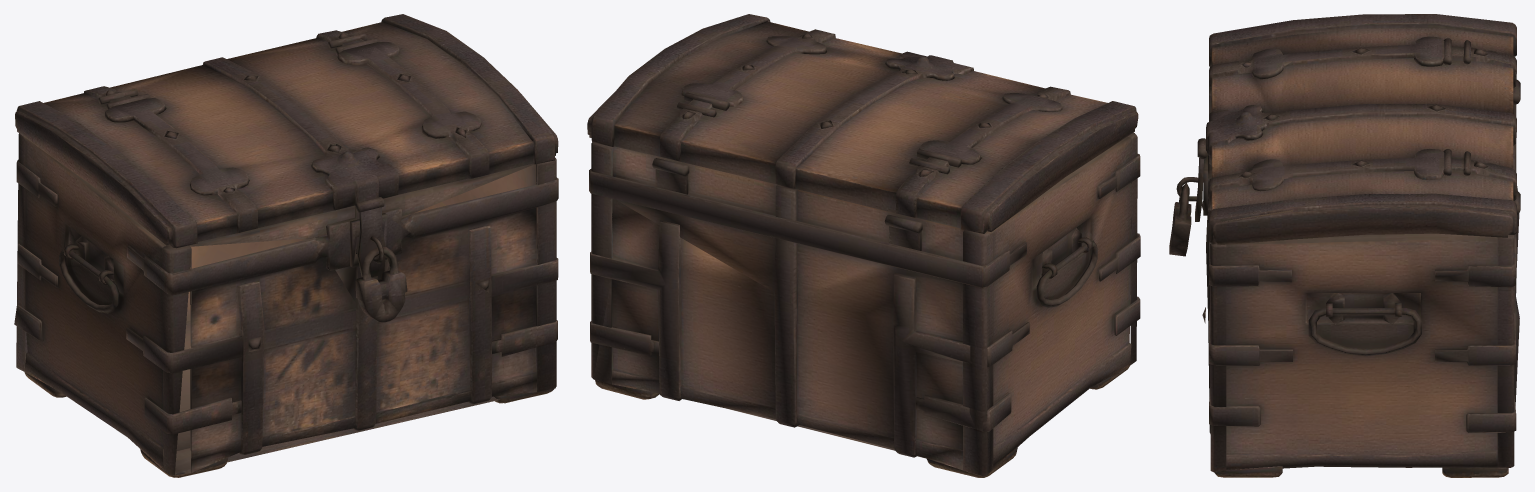
Rendered from selected.fbx.
The picture shows the model from 3 angles, left to right: view 1: azimuth 30°, elevation 25°; view 2: azimuth 150°, elevation 25°; view 3: azimuth 270°, elevation 25°; orthographic projection. The views are drawn at different scales.
Visible parts, largest first — view 1: tripo_node_1eb4c486-6da2-4d8a-a947-78a52e876023; view 2: tripo_node_1eb4c486-6da2-4d8a-a947-78a52e876023; view 3: tripo_node_1eb4c486-6da2-4d8a-a947-78a52e876023.
Part boxes in pixels (x1,y1,x2,y2): tripo_node_1eb4c486-6da2-4d8a-a947-78a52e876023: (14,14,558,477); tripo_node_1eb4c486-6da2-4d8a-a947-78a52e876023: (587,14,1140,477); tripo_node_1eb4c486-6da2-4d8a-a947-78a52e876023: (1169,14,1520,477).
Bounding box in the file's own units: 0.998 × 0.6582 × 0.7441.
1 material, 1 textured.
